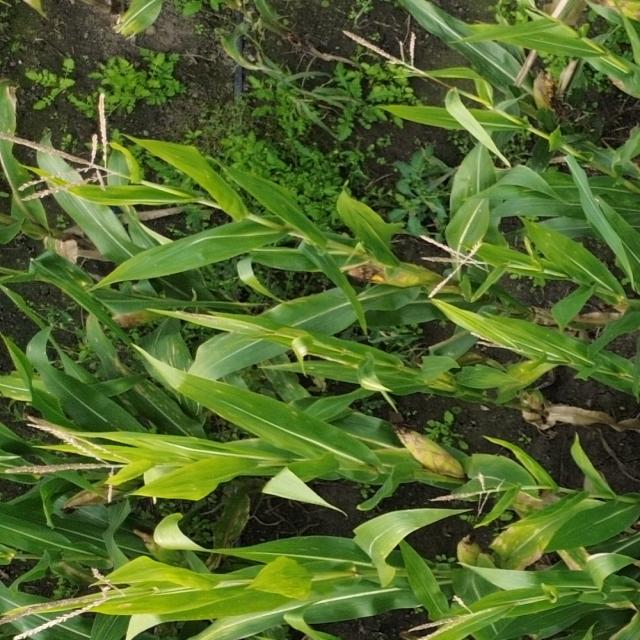gray-leaf-spot: (99, 333, 224, 443), (185, 367, 339, 455), (234, 517, 365, 601)
southern-leaf-blight: (448, 168, 600, 266), (1, 79, 94, 202), (492, 501, 640, 570)
